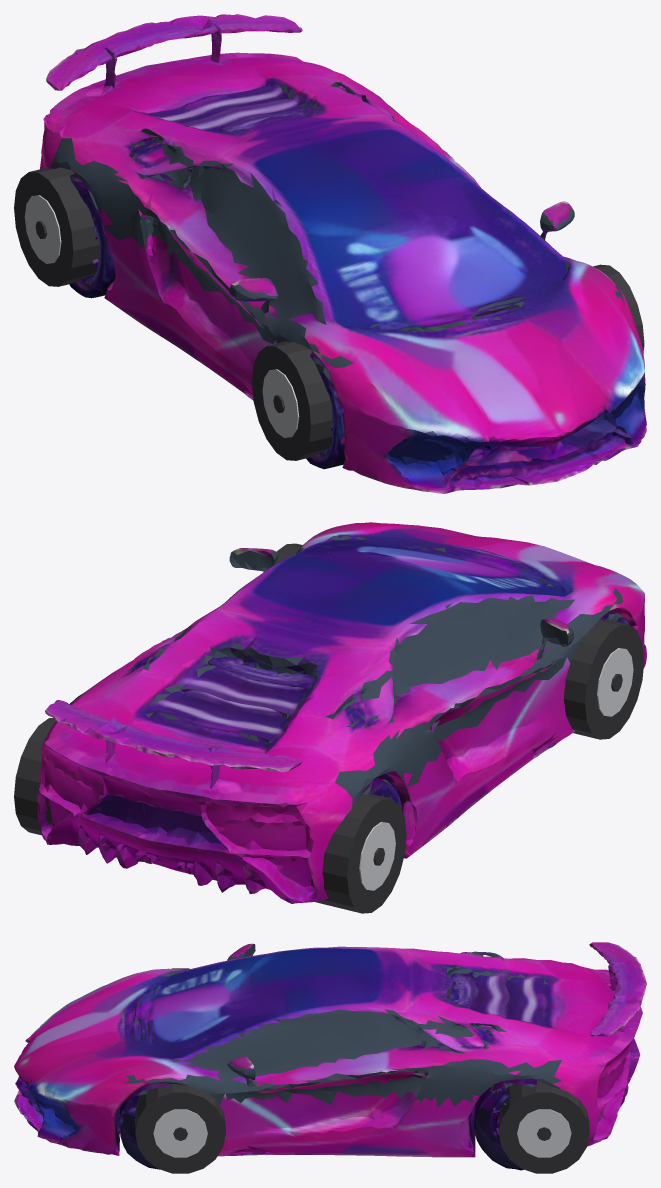
The model's file is electrichypercar3.glb.
The picture shows the model from 3 angles, top to bottom: view 1: azimuth 30°, elevation 25°; view 2: azimuth 150°, elevation 25°; view 3: azimuth 270°, elevation 25°; orthographic projection. The views are drawn at different scales.
Visible parts, largest first — view 1: panel_hood, panel_trunk, panel_roof, panel_bumper_f, susp_front_L, panel_door_L, glass_panel_roof, wheel_rear_L, glass_panel_trunk, wheel_front_L, glass_panel_hood, susp_front_R (+5 smaller); view 2: panel_trunk, panel_roof, panel_hood, panel_bumper_r, panel_door_L, glass_panel_roof, glass_panel_trunk, wheel_rear_L, wheel_front_L, glass_panel_hood, susp_rear_L, wheel_rear_R (+6 smaller); view 3: panel_trunk, panel_hood, panel_roof, panel_door_R, glass_panel_roof, susp_front_R, glass_panel_trunk, panel_bumper_f, wheel_rear_R, wheel_front_R, glass_panel_hood, susp_rear_R (+4 smaller).
Part boxes in pixels (x1,y1,x2,y2): panel_hood: [230, 197, 633, 395]; panel_trunk: [41, 14, 433, 319]; panel_roof: [151, 108, 493, 302]; panel_bumper_f: [319, 332, 645, 491]; susp_front_L: [241, 351, 465, 493]; panel_door_L: [136, 234, 264, 392]; glass_panel_roof: [149, 116, 498, 302]; wheel_rear_L: [14, 167, 99, 286]; glass_panel_trunk: [50, 82, 408, 248]; wheel_front_L: [251, 341, 332, 460]; glass_panel_hood: [229, 201, 624, 378]; susp_front_R: [611, 287, 646, 450]; panel_trunk: [41, 615, 445, 854]; panel_roof: [150, 550, 529, 722]; panel_hood: [233, 522, 630, 747]; panel_bumper_r: [37, 764, 412, 902]; panel_door_L: [430, 655, 548, 834]; glass_panel_roof: [221, 552, 568, 724]; glass_panel_trunk: [69, 623, 441, 808]; wheel_rear_L: [305, 794, 406, 913]; wheel_front_L: [563, 620, 644, 739]; glass_panel_hood: [230, 535, 623, 679]; susp_rear_L: [240, 768, 458, 903]; wheel_rear_R: [14, 718, 55, 835]; panel_trunk: [409, 942, 646, 1157]; panel_hood: [62, 943, 259, 1156]; panel_roof: [247, 946, 430, 1083]; panel_door_R: [250, 1075, 423, 1156]; glass_panel_roof: [251, 945, 421, 1082]; susp_front_R: [28, 1081, 275, 1169]; glass_panel_trunk: [416, 951, 561, 1107]; panel_bumper_f: [14, 995, 141, 1130]; wheel_rear_R: [499, 1080, 589, 1173]; wheel_front_R: [135, 1083, 225, 1173]; glass_panel_hood: [124, 944, 261, 1105]; susp_rear_R: [368, 1087, 624, 1170].
Bounding box in the file's own units: 1.9 × 0.9894 × 4.
4 materials, 1 textured.
